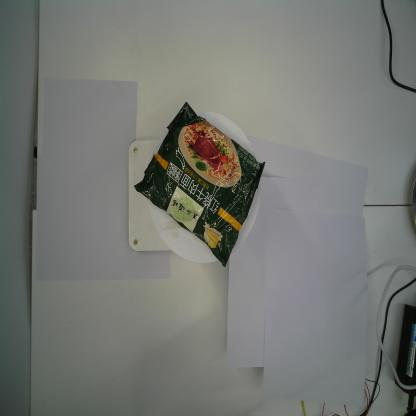Instant Noodles: (133, 102, 266, 268)
